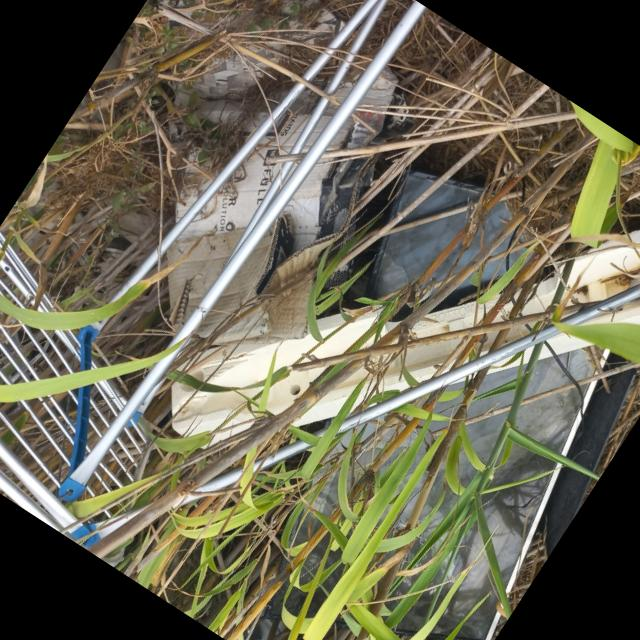Carton: (144, 0, 397, 346)
Other litter: (0, 0, 426, 568), (91, 282, 640, 538), (262, 345, 610, 640)
Other plastic: (540, 346, 640, 556)
Styrofoam piece: (170, 229, 640, 451)
